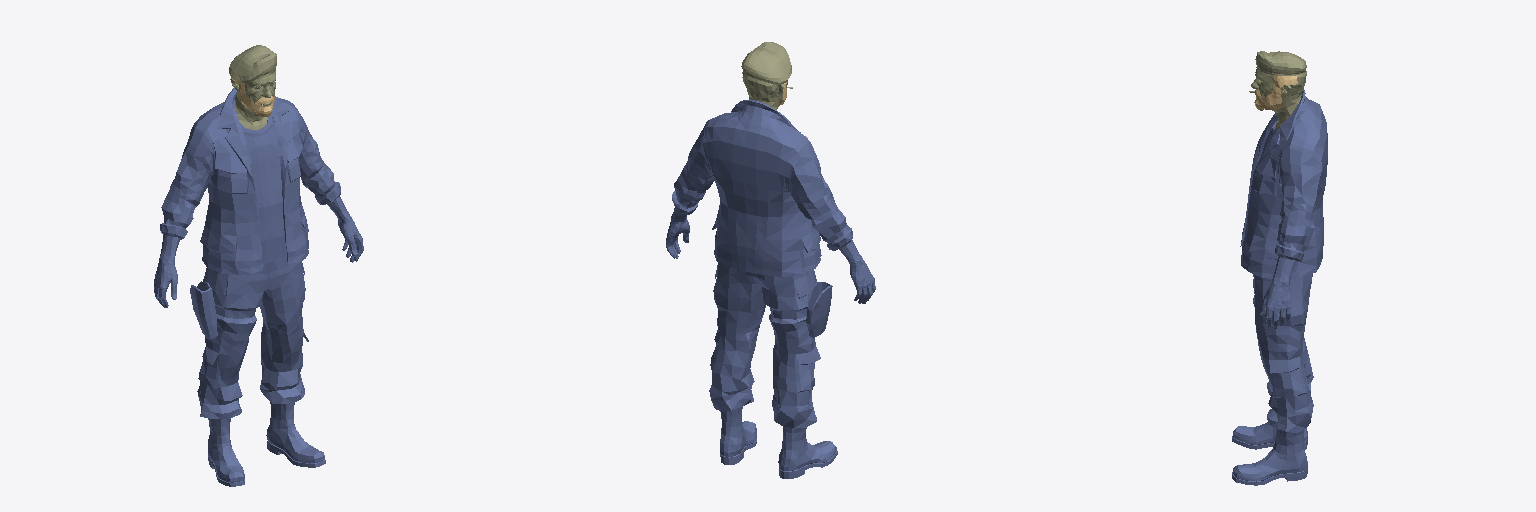
The model's file is bossrelease.obj.
The picture shows the model from 3 angles: view 1: azimuth 30°, elevation 25°; view 2: azimuth 150°, elevation 25°; view 3: azimuth 270°, elevation 25°; orthographic projection.
Parts seen in each view (by area): view 1: SMDImport; view 2: SMDImport; view 3: SMDImport.
Boxes of the visible parts, x1=… form: SMDImport: x1=154, y1=45, x2=363, y2=486; SMDImport: x1=666, y1=42, x2=875, y2=478; SMDImport: x1=1232, y1=51, x2=1327, y2=485.
Bounding box in the file's own units: 37.64 × 72.67 × 15.44.